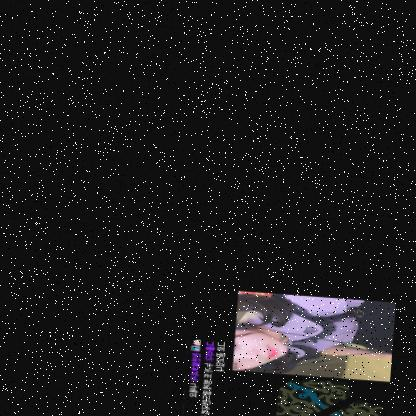streamer: (238, 286, 400, 374)
